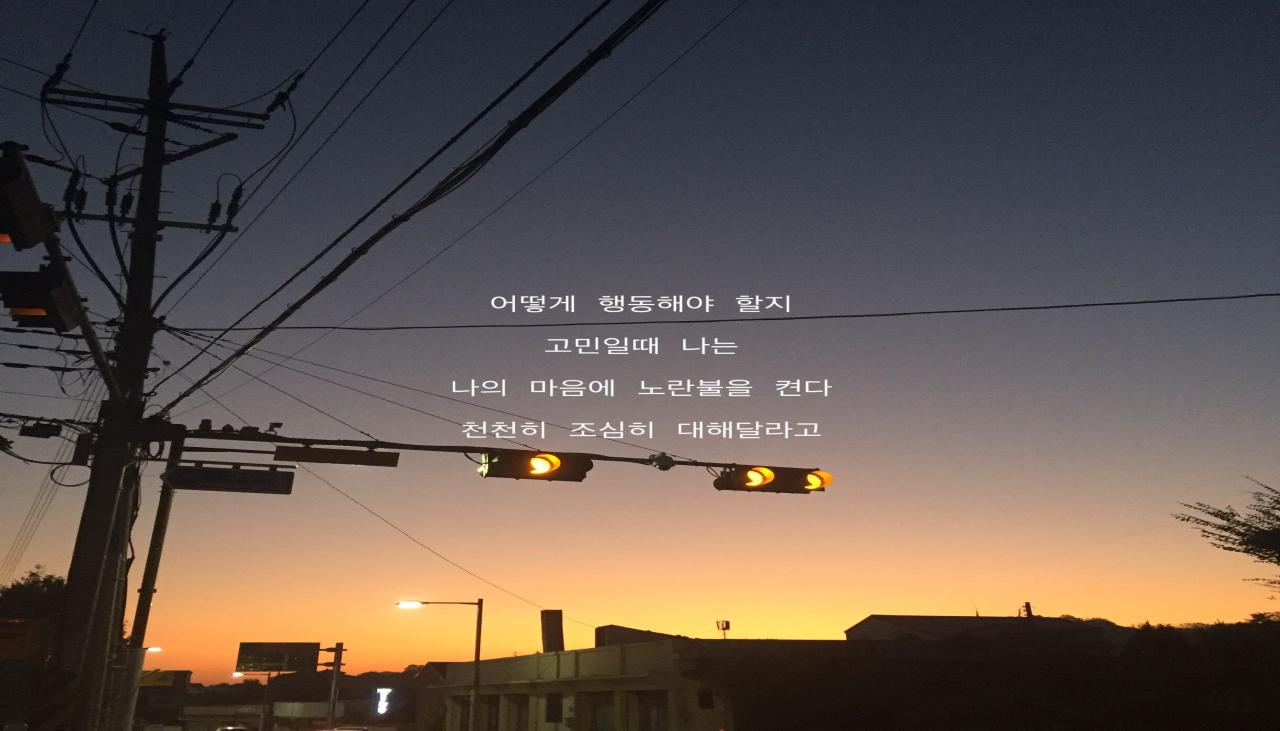Yellow Light: (523, 450, 563, 477), (736, 464, 776, 487), (798, 467, 832, 493)
